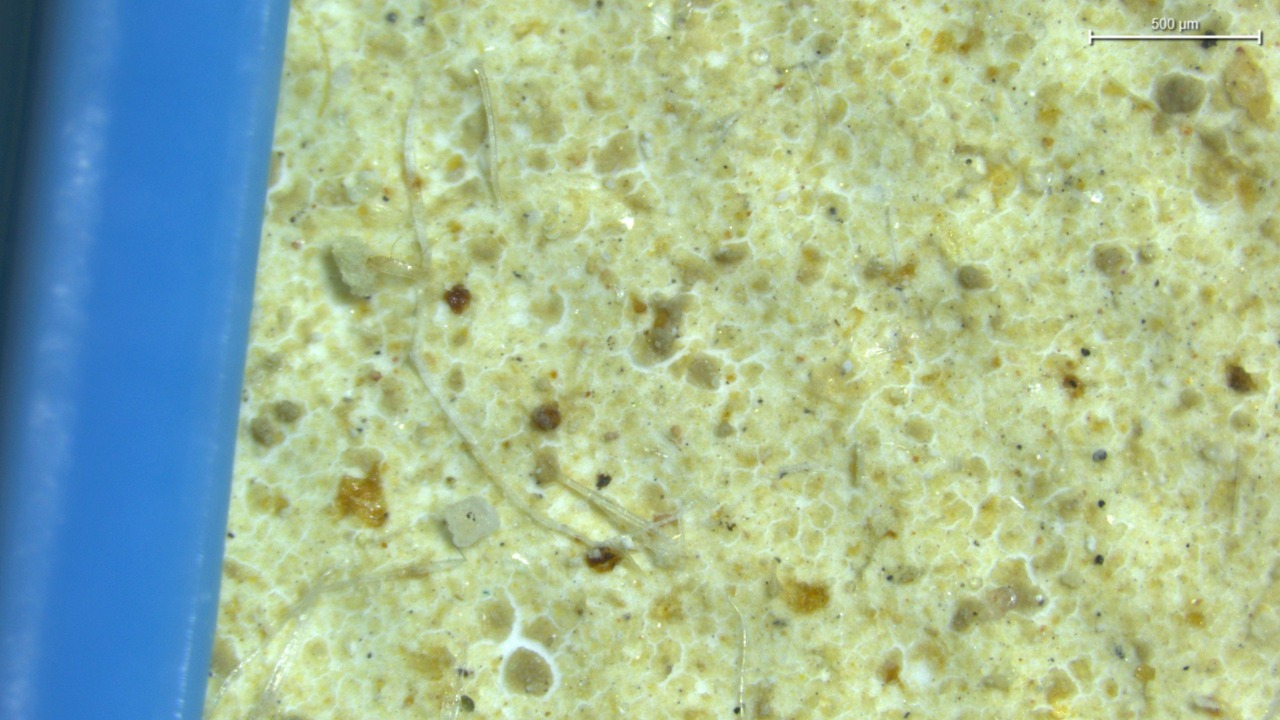microplastic_fragment: (443, 497, 500, 548), (330, 237, 375, 297)
